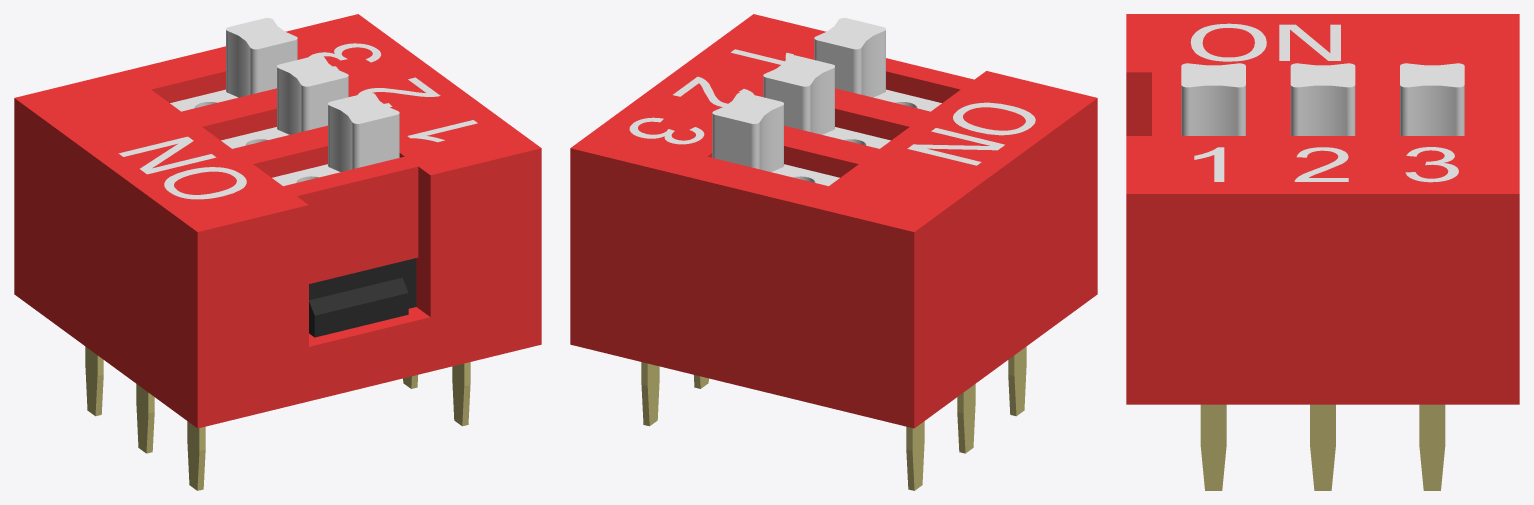
The picture shows the model from 3 angles, left to right: view 1: azimuth 30°, elevation 25°; view 2: azimuth 150°, elevation 25°; view 3: azimuth 270°, elevation 25°; orthographic projection. The views are drawn at different scales.
Visible parts, largest first — view 1: =>[0:1:1:3], =>[0:1:1:2]; view 2: =>[0:1:1:3], =>[0:1:1:2]; view 3: =>[0:1:1:3], =>[0:1:1:2].
Part boxes in pixels (<box>): =>[0:1:1:3]: <box>14,14,541,490</box>; =>[0:1:1:2]: <box>118,43,477,199</box>; =>[0:1:1:3]: <box>570,14,1097,490</box>; =>[0:1:1:2]: <box>629,49,1035,165</box>; =>[0:1:1:3]: <box>1126,14,1519,490</box>; =>[0:1:1:2]: <box>1190,23,1458,182</box>.
Size of the model in its own units: 0.0099 by 0.0093 by 0.00914.
